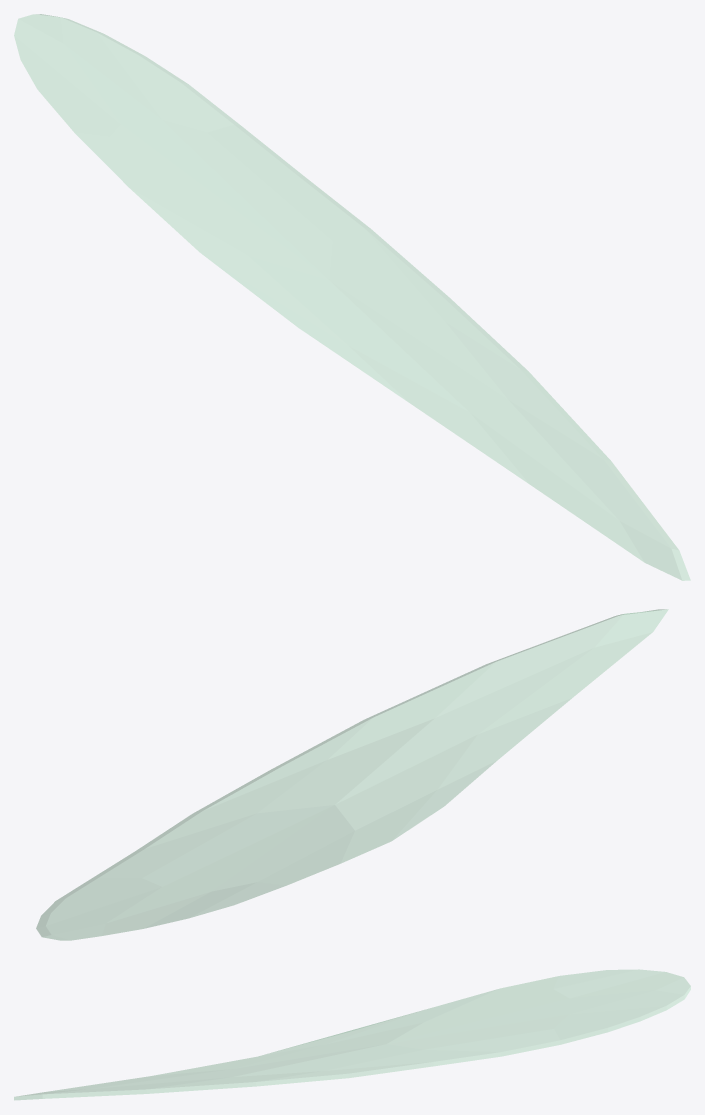
Rendered from ScreecherWingL.fbx.
3 views of the same model, one above another, from view 1: azimuth 30°, elevation 25°; view 2: azimuth 150°, elevation 25°; view 3: azimuth 270°, elevation 25° (orthographic). The views are drawn at different scales.
Visible parts, largest first — view 1: Wing2; view 2: Wing2; view 3: Wing2.
Part boxes in pixels (<box>): Wing2: <box>14,14,690,580</box>; Wing2: <box>36,609,668,940</box>; Wing2: <box>14,969,690,1100</box>.
Size of the model in its own units: 3.88 by 3.13 by 20.06.
